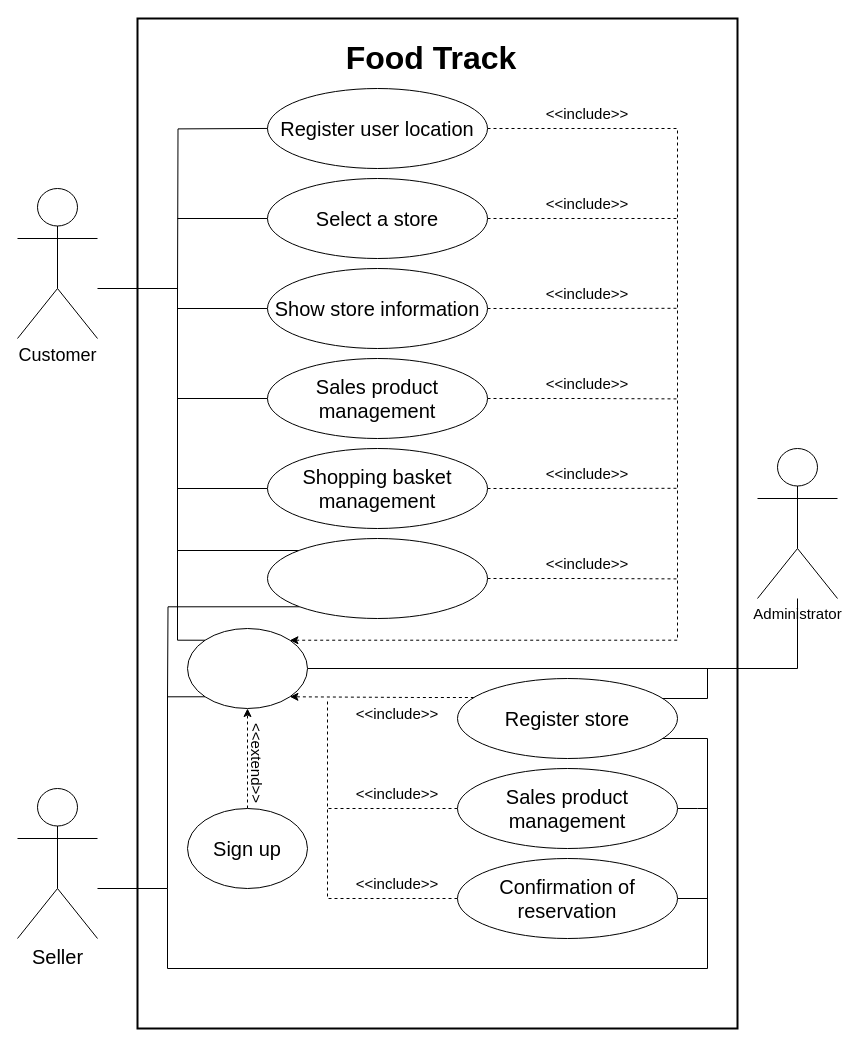
The diagram is 859 pixels wide and 1046 high, and some of its shapes have lost their labels. Here are the shapes that lost their labels. From the top down, the centre of each, then its label:
At point (377, 578): "Check the history".
At point (247, 668): "Login".
